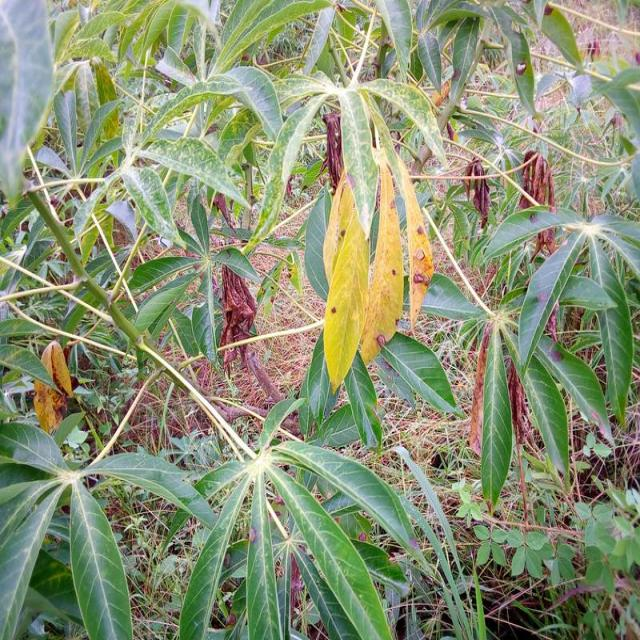cassava leaf: (0, 0, 638, 638), (320, 174, 370, 393)
